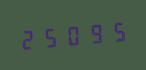five: (40, 22, 61, 50), (106, 17, 127, 45)
nine: (84, 19, 105, 47)
two: (18, 24, 39, 52)
zero: (62, 20, 83, 49)
